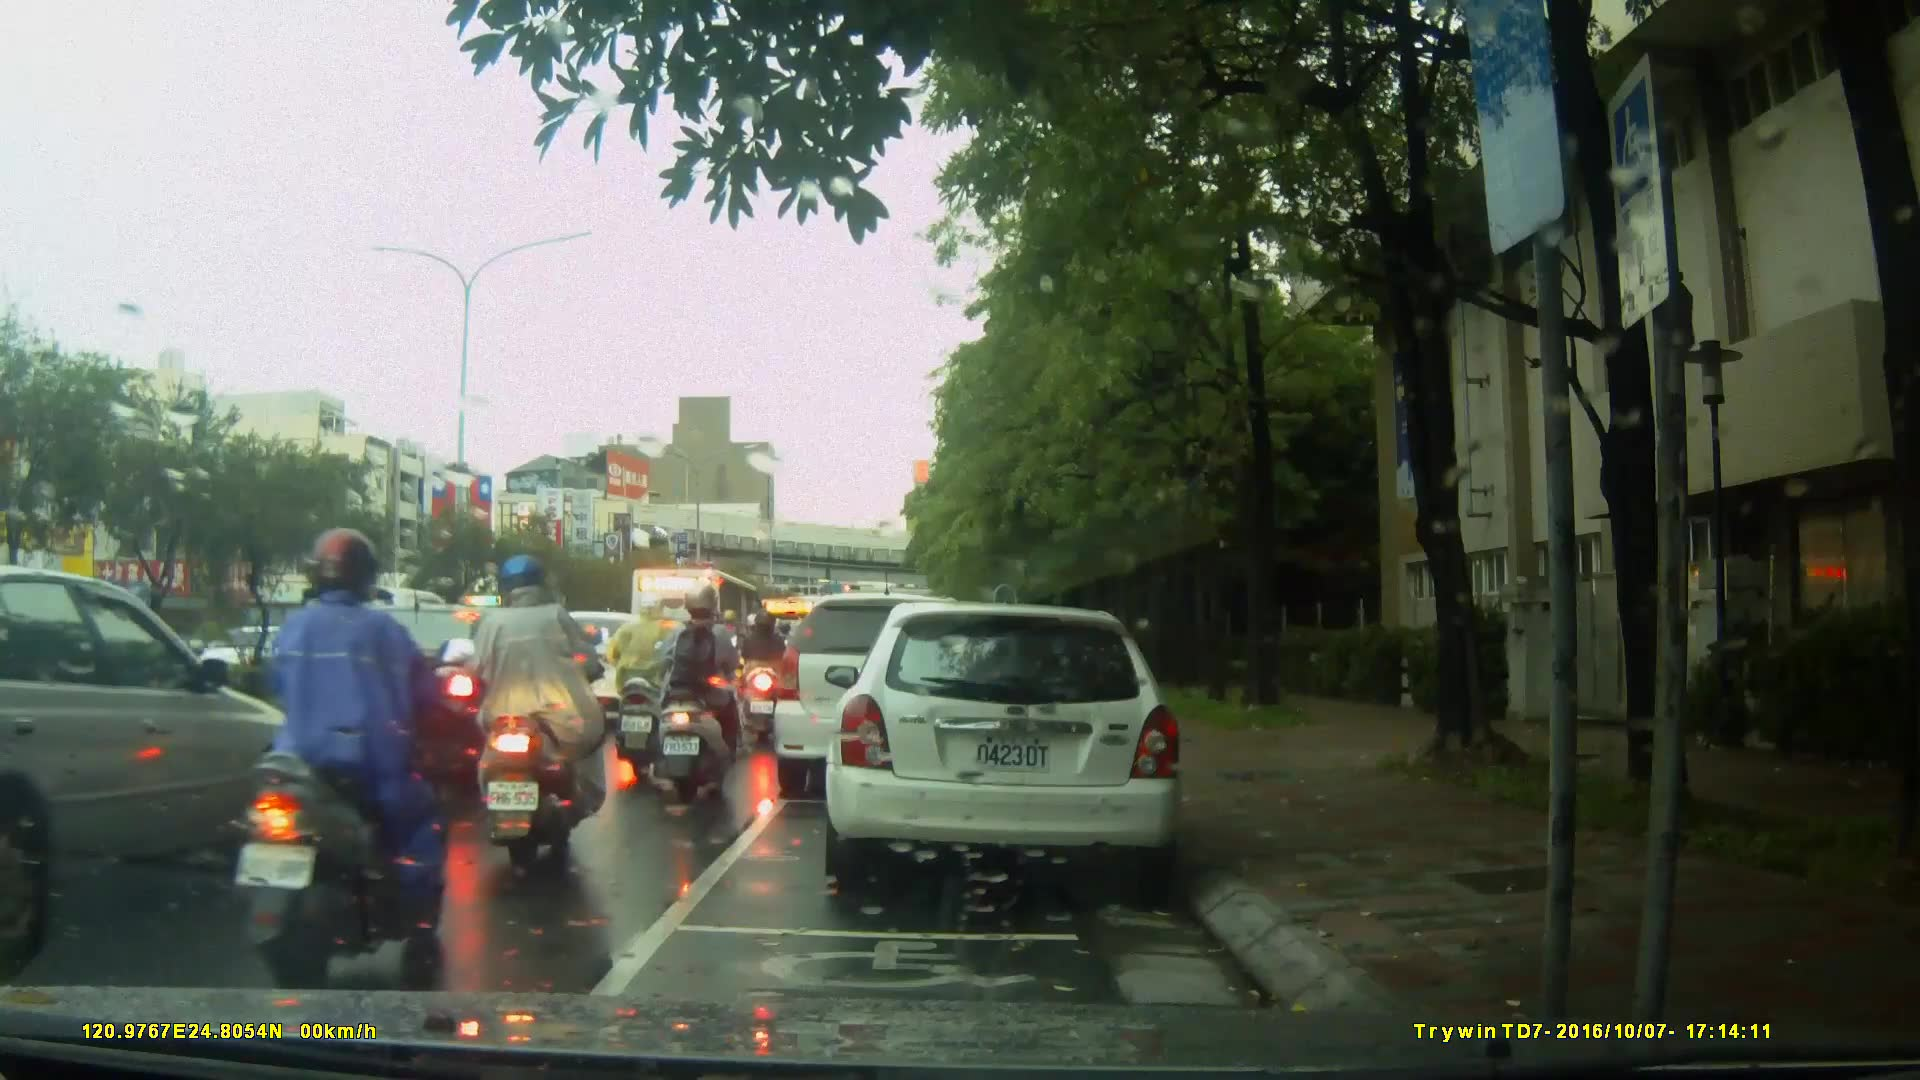rider: (226, 523, 438, 967), (461, 550, 597, 872), (654, 586, 741, 805), (611, 601, 683, 773), (737, 612, 793, 744)
vehicle: (831, 592, 1196, 897), (6, 566, 296, 941), (768, 592, 999, 802), (297, 604, 539, 777), (626, 566, 765, 700), (506, 609, 647, 723)
